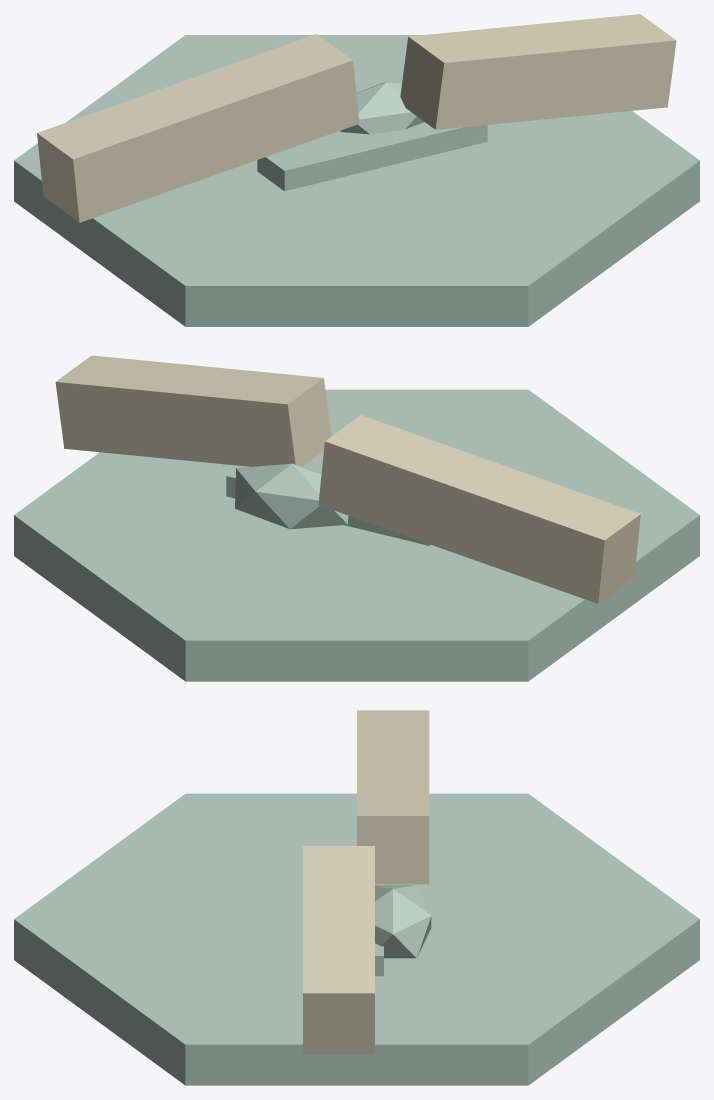
Rendered from COASTAL_WATER_EDGE_001_LOD_MAP.glb.
3 renders of one model, top to bottom at view 1: azimuth 30°, elevation 25°; view 2: azimuth 150°, elevation 25°; view 3: azimuth 270°, elevation 25°, orthographic.
Parts seen in each view (by area): view 1: COASTAL_WATER_EDGE_001_LOD_MAP_GROUND_SOCKET, COASTAL_WATER_EDGE_001_LOD_MAP_BANK_MAP_001, COASTAL_WATER_EDGE_001_LOD_MAP_BANK_MAP_002, COASTAL_WATER_EDGE_001_LOD_MAP_WET_MAP_001, COASTAL_WATER_EDGE_001_LOD_MAP_PEBBLE_001; view 2: COASTAL_WATER_EDGE_001_LOD_MAP_GROUND_SOCKET, COASTAL_WATER_EDGE_001_LOD_MAP_BANK_MAP_001, COASTAL_WATER_EDGE_001_LOD_MAP_BANK_MAP_002, COASTAL_WATER_EDGE_001_LOD_MAP_PEBBLE_001, COASTAL_WATER_EDGE_001_LOD_MAP_WET_MAP_001; view 3: COASTAL_WATER_EDGE_001_LOD_MAP_GROUND_SOCKET, COASTAL_WATER_EDGE_001_LOD_MAP_BANK_MAP_002, COASTAL_WATER_EDGE_001_LOD_MAP_BANK_MAP_001, COASTAL_WATER_EDGE_001_LOD_MAP_PEBBLE_001.
Part boxes in pixels (bbox=[...]): COASTAL_WATER_EDGE_001_LOD_MAP_GROUND_SOCKET: bbox=[14, 35, 699, 326]; COASTAL_WATER_EDGE_001_LOD_MAP_BANK_MAP_001: bbox=[37, 34, 359, 222]; COASTAL_WATER_EDGE_001_LOD_MAP_BANK_MAP_002: bbox=[400, 14, 676, 129]; COASTAL_WATER_EDGE_001_LOD_MAP_WET_MAP_001: bbox=[257, 122, 487, 191]; COASTAL_WATER_EDGE_001_LOD_MAP_PEBBLE_001: bbox=[340, 82, 424, 134]; COASTAL_WATER_EDGE_001_LOD_MAP_GROUND_SOCKET: bbox=[14, 389, 699, 681]; COASTAL_WATER_EDGE_001_LOD_MAP_BANK_MAP_001: bbox=[318, 415, 640, 603]; COASTAL_WATER_EDGE_001_LOD_MAP_BANK_MAP_002: bbox=[55, 355, 331, 466]; COASTAL_WATER_EDGE_001_LOD_MAP_PEBBLE_001: bbox=[235, 463, 348, 529]; COASTAL_WATER_EDGE_001_LOD_MAP_WET_MAP_001: bbox=[226, 466, 430, 545]; COASTAL_WATER_EDGE_001_LOD_MAP_GROUND_SOCKET: bbox=[14, 793, 699, 1085]; COASTAL_WATER_EDGE_001_LOD_MAP_BANK_MAP_002: bbox=[303, 846, 374, 1053]; COASTAL_WATER_EDGE_001_LOD_MAP_BANK_MAP_001: bbox=[357, 710, 429, 884]; COASTAL_WATER_EDGE_001_LOD_MAP_PEBBLE_001: bbox=[375, 885, 431, 958].
Size of the model in its own units: 0.7373 by 0.1805 by 0.76.
